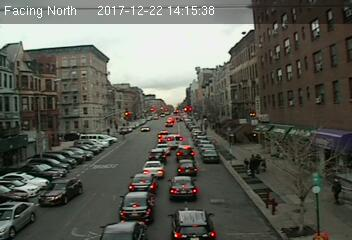car: (166, 206, 219, 240), (118, 191, 160, 224), (36, 179, 84, 205), (168, 174, 198, 199), (128, 173, 158, 192), (176, 159, 198, 175), (142, 161, 165, 175), (175, 145, 195, 159), (202, 150, 220, 163), (147, 149, 166, 161)
